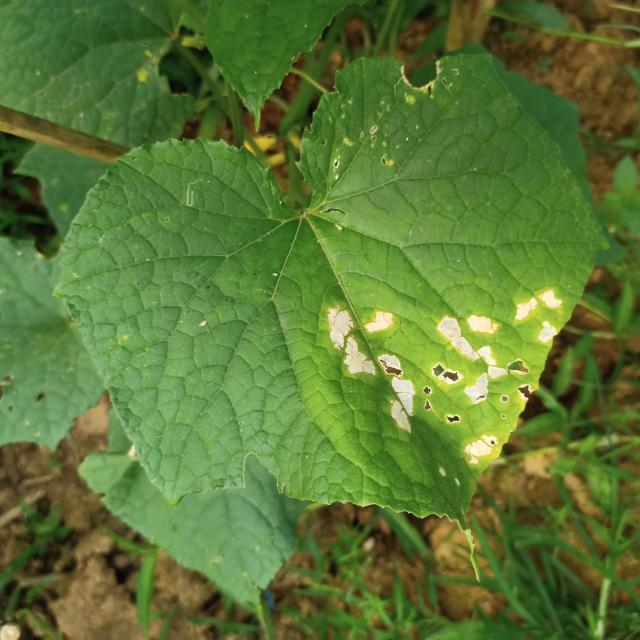disease_cucumber: (314, 286, 576, 488)
